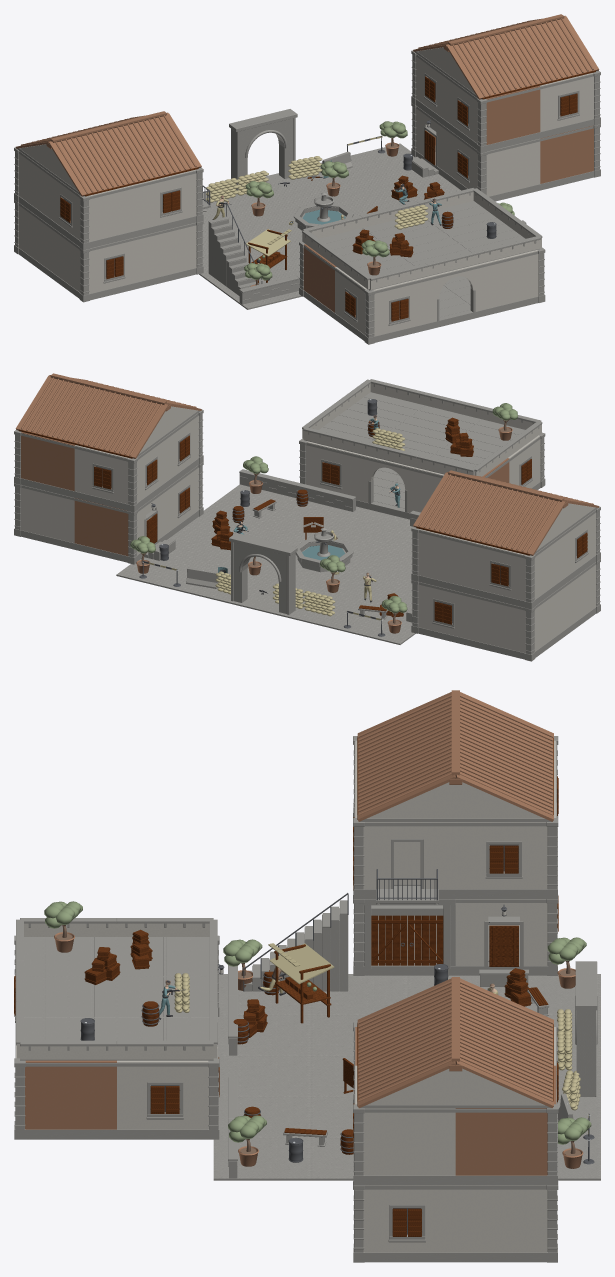
Rendered from site-a.glb.
3 views of the same model, one above another, from view 1: azimuth 30°, elevation 25°; view 2: azimuth 150°, elevation 25°; view 3: azimuth 270°, elevation 25° (orthographic). The views are drawn at different scales.
Visible parts, largest first — view 1: 051-roof-tile-slope/0, 089-roof-tile-slope/0, 088-roof-tile-slope/0, 050-roof-tile-slope/0, 133-freestanding-archway/0, 111-wall-plaster-bay/1, 080-wall-ochre-bay/1, 042-wall-plaster-bay/1, 031-wall-plaster-bay/1, 068-wall-plaster-bay/1, 069-wall-ochre-bay/1, 134-external-stair-run/0 (+62 smaller); view 2: 087-roof-tile-slope/0, 049-roof-tile-slope/0, 048-roof-tile-slope/0, 086-roof-tile-slope/0, 133-freestanding-archway/0, 041-wall-plaster-bay/1, 079-wall-ochre-bay/1, 066-wall-ochre-bay/1, 028-wall-plaster-bay/1, 067-wall-plaster-bay/1, 078-wall-shuttered-window/1, 029-wall-shuttered-window/1 (+73 smaller); view 3: 115-wall-ochre-bay/1, 084-wall-ochre-bay/1, 072-wall-plaster-bay/1, 085-wall-plaster-bay/1, 114-wall-shuttered-window/1, 046-wall-shuttered-window/1, 073-wall-shuttered-window/1, 047-balcony-bay/1, 034-wall-timber-door/1, 050-roof-tile-slope/0, 086-roof-tile-slope/0, 088-roof-tile-slope/0 (+66 smaller).
Part boxes in pixels (x1,y1,x2,y2): 051-roof-tile-slope/0: (110,115,196,180); 089-roof-tile-slope/0: (507,18,593,83); 088-roof-tile-slope/0: (452,32,538,96); 050-roof-tile-slope/0: (55,129,141,193); 133-freestanding-archway/0: (229,109,297,190); 111-wall-plaster-bay/1: (484,250,538,309); 080-wall-ochre-bay/1: (486,86,540,144); 042-wall-plaster-bay/1: (88,183,142,241); 031-wall-plaster-bay/1: (142,222,196,280); 068-wall-plaster-bay/1: (486,138,540,196); 069-wall-ochre-bay/1: (540,125,593,183); 134-external-stair-run/0: (208,216,258,295); 087-roof-tile-slope/0: (21,377,107,442); 049-roof-tile-slope/0: (418,474,504,539); 048-roof-tile-slope/0: (473,488,559,552); 086-roof-tile-slope/0: (76,391,162,455); 133-freestanding-archway/0: (229,533,297,614); 041-wall-plaster-bay/1: (418,529,472,587); 079-wall-ochre-bay/1: (21,432,74,491); 066-wall-ochre-bay/1: (74,498,128,556); 028-wall-plaster-bay/1: (472,595,525,653); 067-wall-plaster-bay/1: (21,485,74,542); 078-wall-shuttered-window/1: (74,445,128,504); 029-wall-shuttered-window/1: (418,582,472,639); 115-wall-ochre-bay/1: (25,1060,116,1129); 084-wall-ochre-bay/1: (455,1108,547,1175); 072-wall-plaster-bay/1: (455,1185,547,1252); 085-wall-plaster-bay/1: (363,1108,455,1175); 114-wall-shuttered-window/1: (117,1060,208,1129); 046-wall-shuttered-window/1: (455,822,547,889); 073-wall-shuttered-window/1: (363,1185,455,1252); 047-balcony-bay/1: (363,822,455,889); 034-wall-timber-door/1: (455,899,547,965); 050-roof-tile-slope/0: (358,694,451,776); 086-roof-tile-slope/0: (460,981,553,1062); 088-roof-tile-slope/0: (358,981,451,1062).
Bounding box in the file's own units: 36.5 × 9.29 × 24.25.
12 materials, 4 textured.
